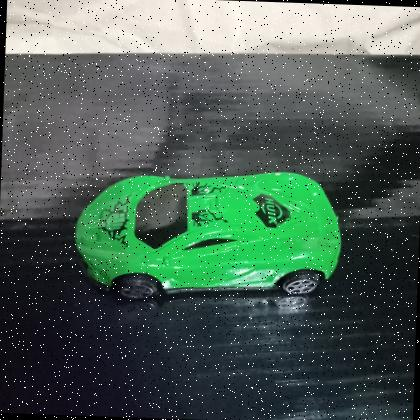Car: (68, 157, 352, 310)
